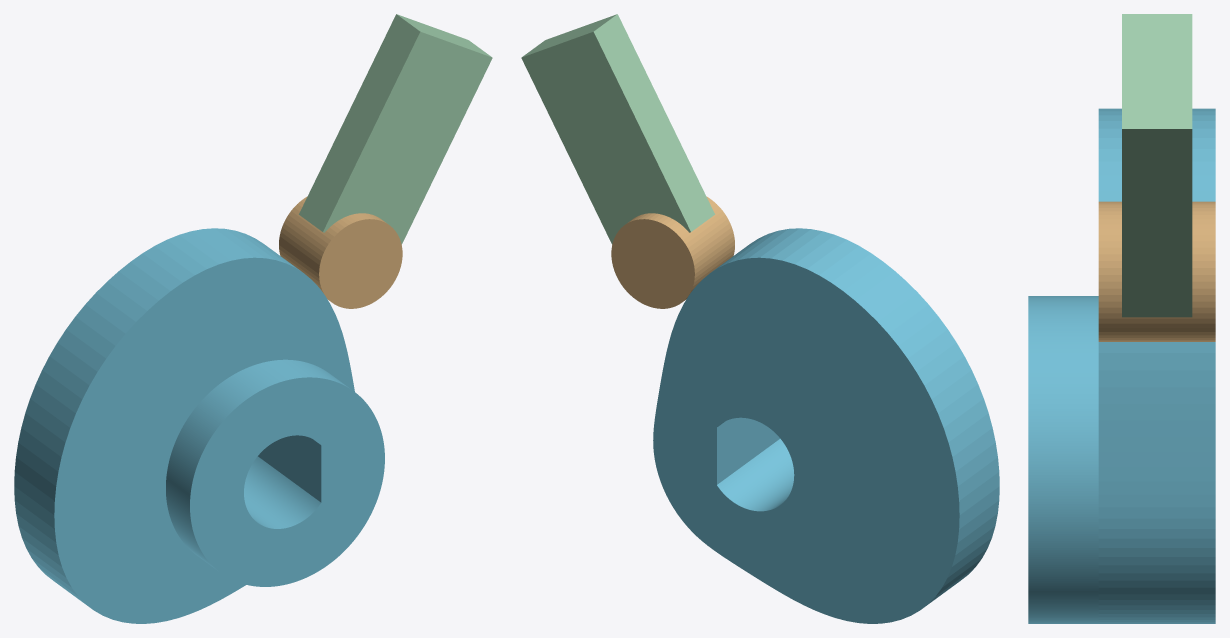
The model's file is plate_cam_demo.glb.
3 views of the same model, side by side, from view 1: azimuth 30°, elevation 25°; view 2: azimuth 150°, elevation 25°; view 3: azimuth 270°, elevation 25° (orthographic). The views are drawn at different scales.
Parts seen in each view (by area): view 1: plate_cam, follower_stem, roller; view 2: plate_cam, follower_stem, roller; view 3: plate_cam, follower_stem, roller.
Boxes of the visible parts, x1,y1,x2,y2 form: plate_cam: (14, 228, 384, 623); follower_stem: (299, 14, 492, 244); roller: (279, 196, 402, 308); plate_cam: (653, 228, 999, 623); follower_stem: (521, 14, 714, 244); roller: (611, 196, 734, 308); plate_cam: (1028, 108, 1215, 623); follower_stem: (1122, 14, 1192, 317); roller: (1098, 201, 1215, 341).
Bounding box in the file's own units: 32.05 × 35.65 × 8.
